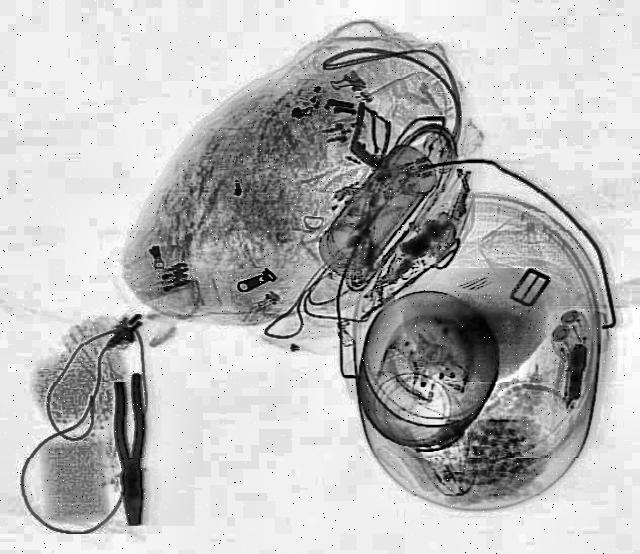Pliers: (108, 372, 152, 526)
